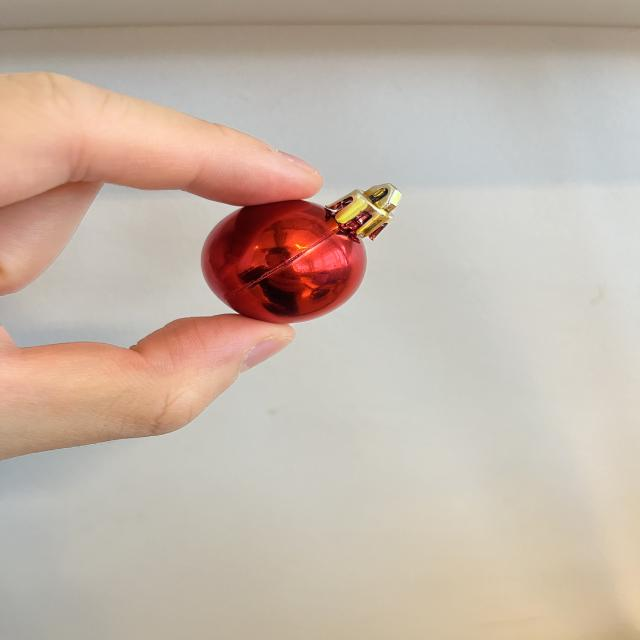glossy-bauble: (166, 182, 422, 337), (201, 184, 403, 324)
